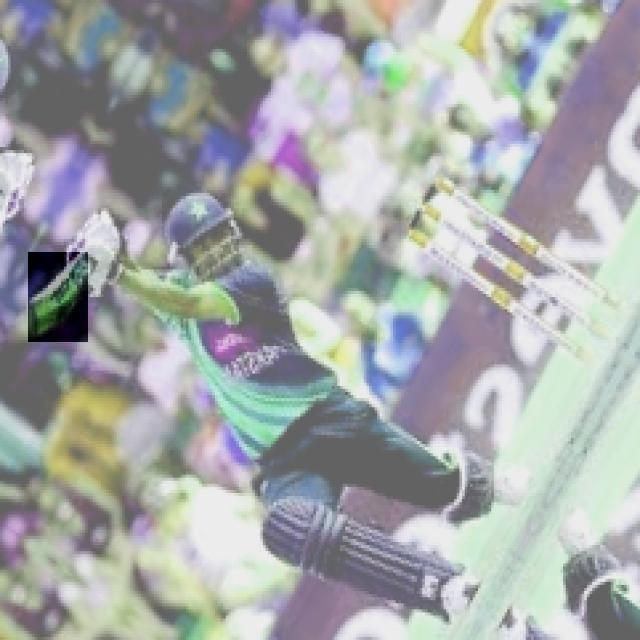bat: (29, 251, 89, 343)
toe: (28, 299, 44, 340)
